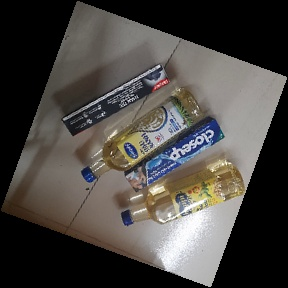CloseUp Tuyet: (122, 117, 223, 193)
Colgate Than: (61, 63, 172, 136)
Happy Soya: (121, 159, 247, 227)
Simply: (80, 86, 204, 181)
